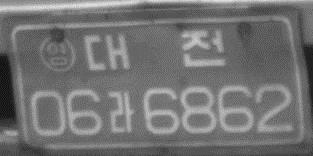0: (29, 89, 67, 138)
2: (257, 83, 295, 134)
6: (141, 85, 180, 135), (217, 84, 256, 134), (65, 89, 102, 137)
8: (180, 84, 217, 136)
대전_D: (81, 26, 227, 73)
라: (106, 88, 135, 137)
영: (38, 34, 75, 73)
